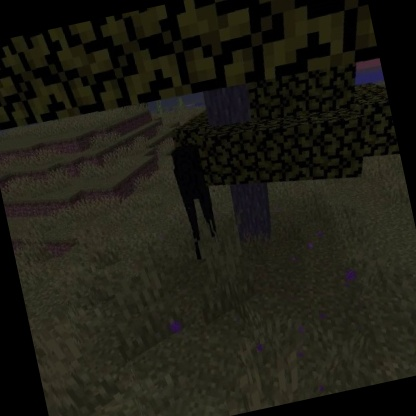enderman: (166, 139, 225, 264)
